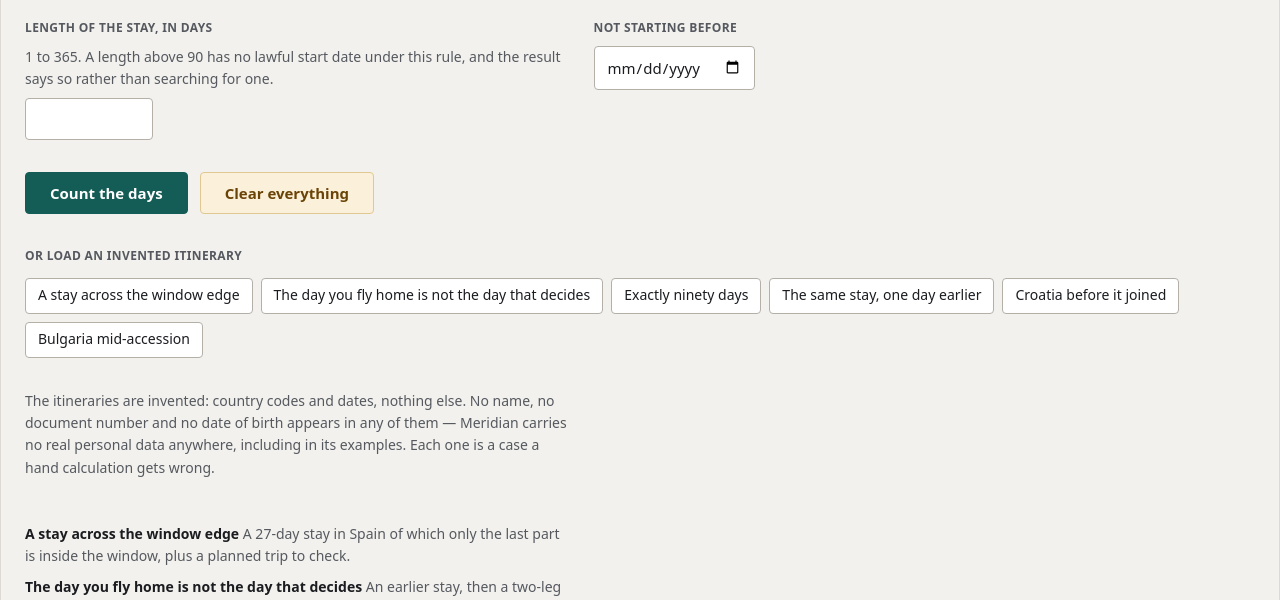
Test case: the worst day of a range › is reported alongside the last day, so the difference is visible
(page scrolled)
Click the button "The day you fly home is not the day that decides". click: (432, 296)
box: [260,278,603,314]
(page scrolled)
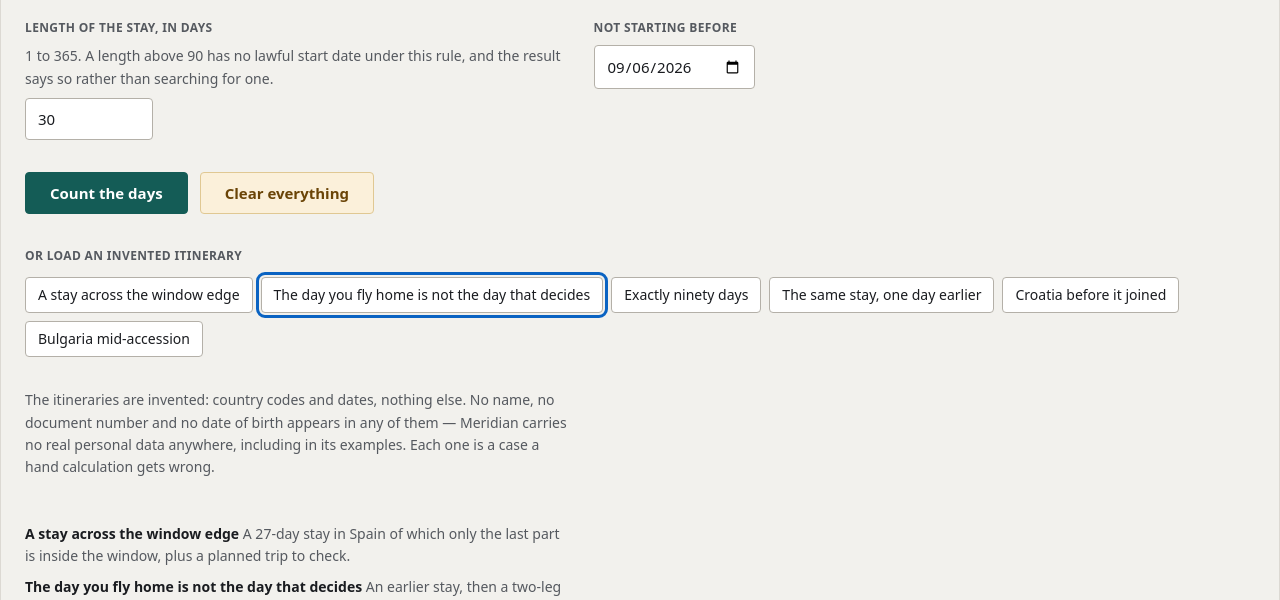
Click the button "Count the days". click: (106, 193)
box: [25,172,188,214]
(page scrolled)
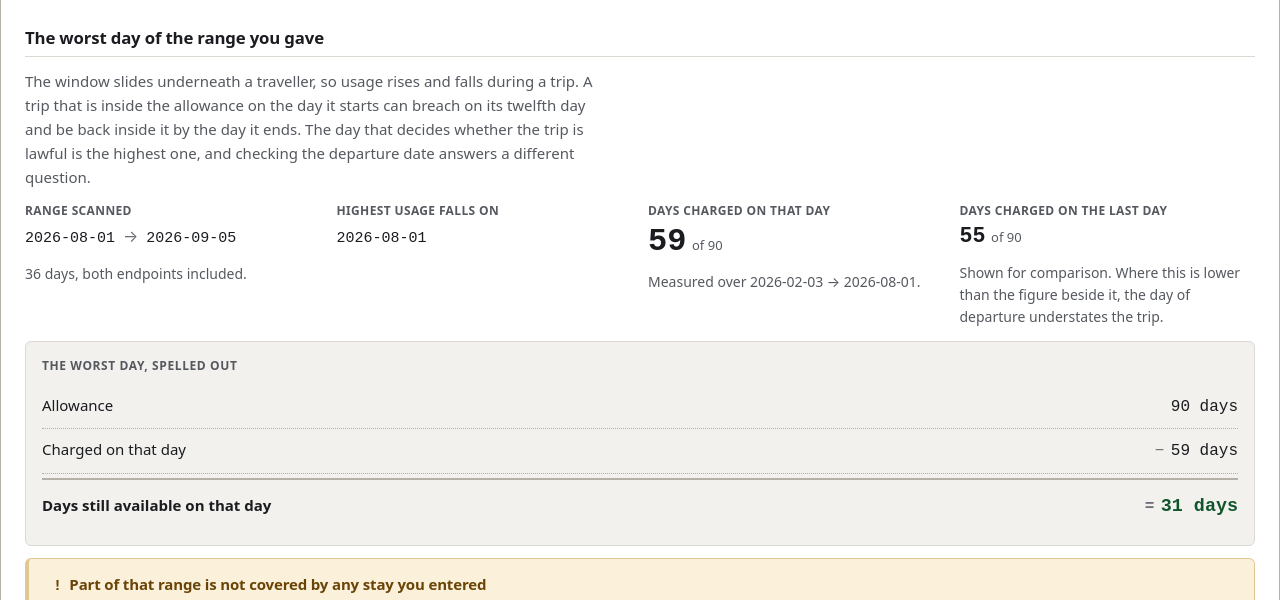
Result: the text "Highest usage falls on" is shown at [336,202,499,219]
Result: the text "2026-08-01" below "Range scanned" is shown at [25,230,115,247]
Result: the text "59" is shown at [648,224,686,259]
